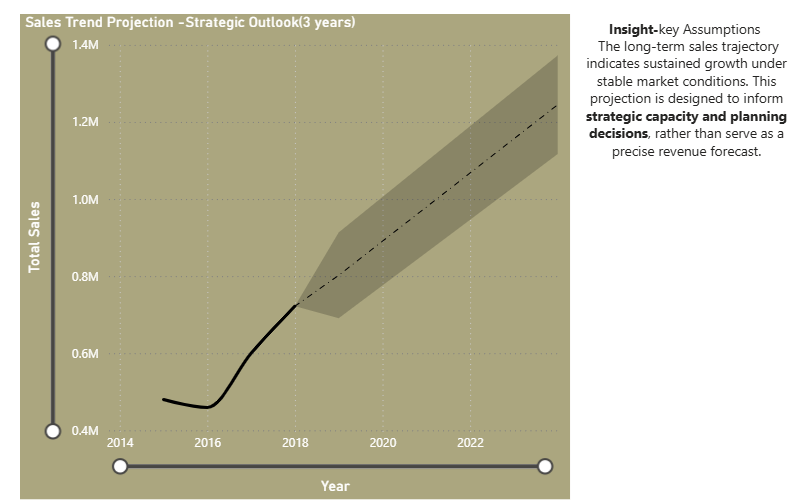

What the dashboard file says about the page in this screenshot:
{"tool":"powerbi","page":{"name":"Page 2","canvas":[1280,720],"ordinal":1},"visuals":[{"type":"lineChart","title":"Sales Trend Projection -Strategic Outlook(3 years)","fields":{"Category":["Date.Year"],"Y":["train.Total Sales"]},"box":[298.2,46.6,534.6,471.9],"z":0},{"type":"textbox","box":[843.3,46.7,207.2,180.9],"z":1}]}

Visuals, with their boxes on the page's 1280x720 design canvas (x1, y1, x2, y2). These are canvas units, not pixel positions in the 790x504 screenshot, which may show the page scaled, cropped or inside an application window:
"Sales Trend Projection -Strategic Outlook(3 years)" lineChart: select_region(298, 47, 833, 518)
textbox: select_region(843, 47, 1050, 228)
